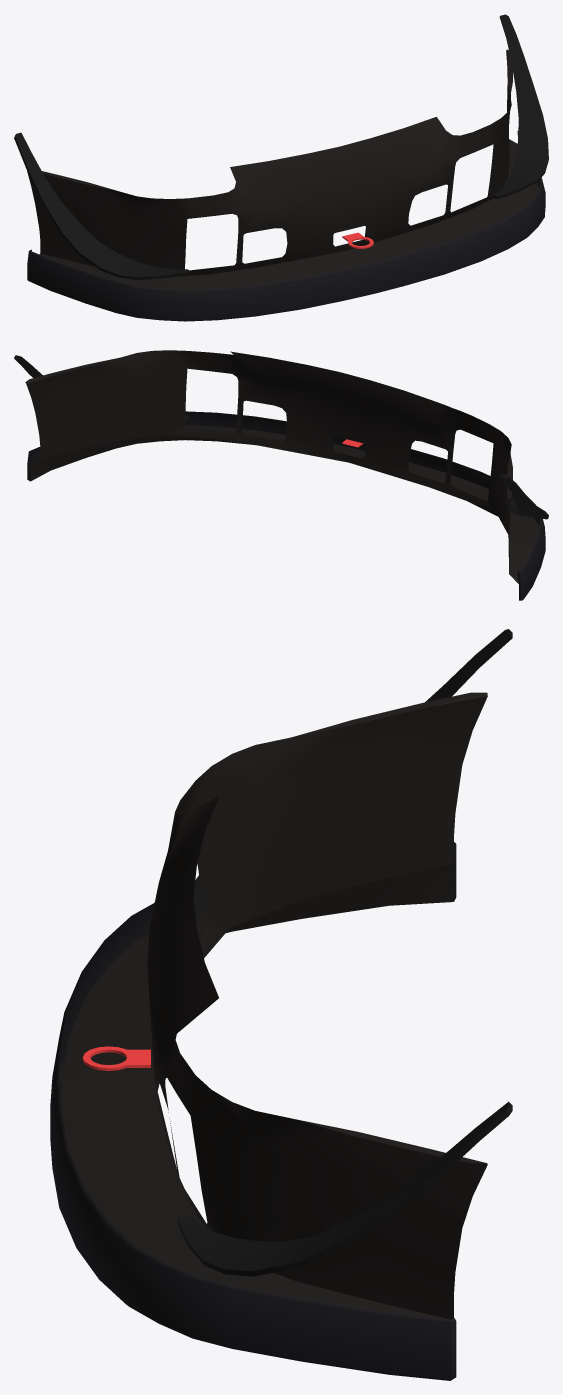
Rendered from RWB_993_FB_01_Trim.fbx.
3 views of the same model, one above another, from view 1: azimuth 30°, elevation 25°; view 2: azimuth 150°, elevation 25°; view 3: azimuth 270°, elevation 25° (orthographic). The views are drawn at different scales.
Parts seen in each view (by area): view 1: RWB_993_FB_01_Trim; view 2: RWB_993_FB_01_Trim; view 3: RWB_993_FB_01_Trim.
Boxes of the visible parts, x1,y1,x2,y2 form: RWB_993_FB_01_Trim: [14, 14, 548, 321]; RWB_993_FB_01_Trim: [14, 350, 548, 600]; RWB_993_FB_01_Trim: [50, 629, 512, 1380].
Size of the model in its own units: 186 by 48.79 by 75.05.
